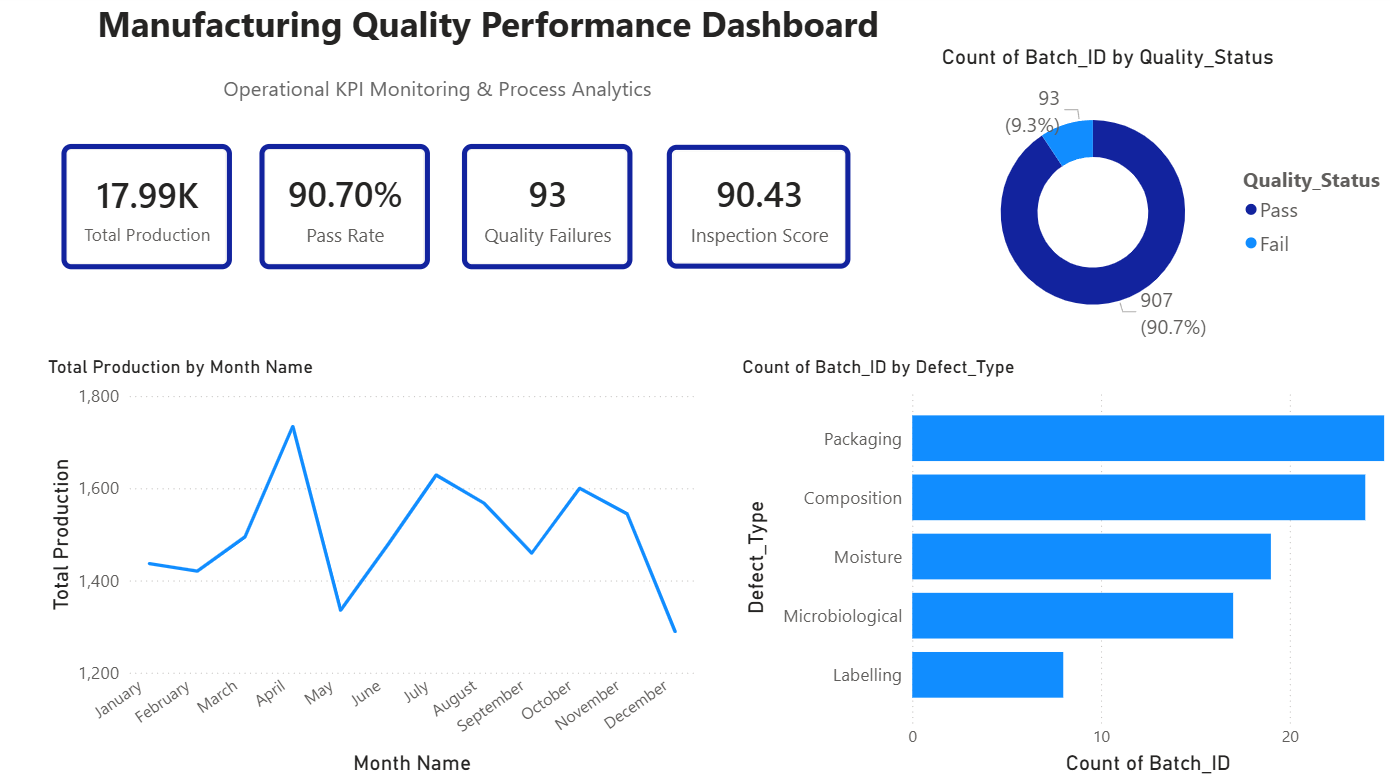

The page's visual inventory and layout, read from the dashboard file:
{"tool":"powerbi","page":{"name":"Page 1","canvas":[1280,720],"ordinal":0},"visuals":[{"type":"cardVisual","fields":{"Data":["manufacturing_quality_data.Total Production"]},"box":[39.7,120.9,190,149.3],"z":0},{"type":"cardVisual","fields":{"Data":["manufacturing_quality_data.Pass Rate %"]},"box":[221.1,120.9,190,149.3],"z":1000},{"type":"cardVisual","fields":{"Data":["manufacturing_quality_data.Failed Batches"]},"box":[406.3,120.9,190,149.3],"z":2000},{"type":"cardVisual","fields":{"Data":["manufacturing_quality_data.Avg Inspection Score"]},"box":[597.2,124.7,196.5,141.7],"z":3000},{"type":"barChart","fields":{"Category":["manufacturing_quality_data.Defect_Type"],"Y":["CountNonNull(manufacturing_quality_data.Batch_ID)"]},"box":[674.7,332.6,604.7,387.4],"z":4000},{"type":"lineChart","fields":{"Y":["manufacturing_quality_data.Total Production"],"Category":["manufacturing_quality_data.Month Name"]},"box":[39.7,332.6,600.9,387.4],"z":5000},{"type":"textbox","box":[13.2,0,867.4,68],"z":7000},{"type":"donutChart","fields":{"Category":["manufacturing_quality_data.Quality_Status"],"Y":["CountNonNull(manufacturing_quality_data.Batch_ID)"]},"box":[858,47.2,421.4,285.4],"z":7500},{"type":"textbox","box":[200.3,68,410.1,41.6],"z":7501}]}

Visuals, with their boxes in screenshot pixels (x1, y1, x2, y2), scaled from the page's 1280x720 canvas onto the 1390x778 screenshot:
cardVisual - manufacturing_quality_data.Total Production: BBox(43, 131, 249, 292)
cardVisual - manufacturing_quality_data.Pass Rate %: BBox(240, 131, 446, 292)
cardVisual - manufacturing_quality_data.Failed Batches: BBox(441, 131, 648, 292)
cardVisual - manufacturing_quality_data.Avg Inspection Score: BBox(649, 135, 862, 288)
barChart - manufacturing_quality_data.Defect_Type x CountNonNull(manufacturing_quality_data.Batch_ID): BBox(733, 359, 1389, 777)
lineChart - manufacturing_quality_data.Total Production x manufacturing_quality_data.Month Name: BBox(43, 359, 696, 777)
textbox: BBox(14, 0, 956, 73)
donutChart - manufacturing_quality_data.Quality_Status x CountNonNull(manufacturing_quality_data.Batch_ID): BBox(932, 51, 1389, 359)
textbox: BBox(218, 73, 663, 118)
